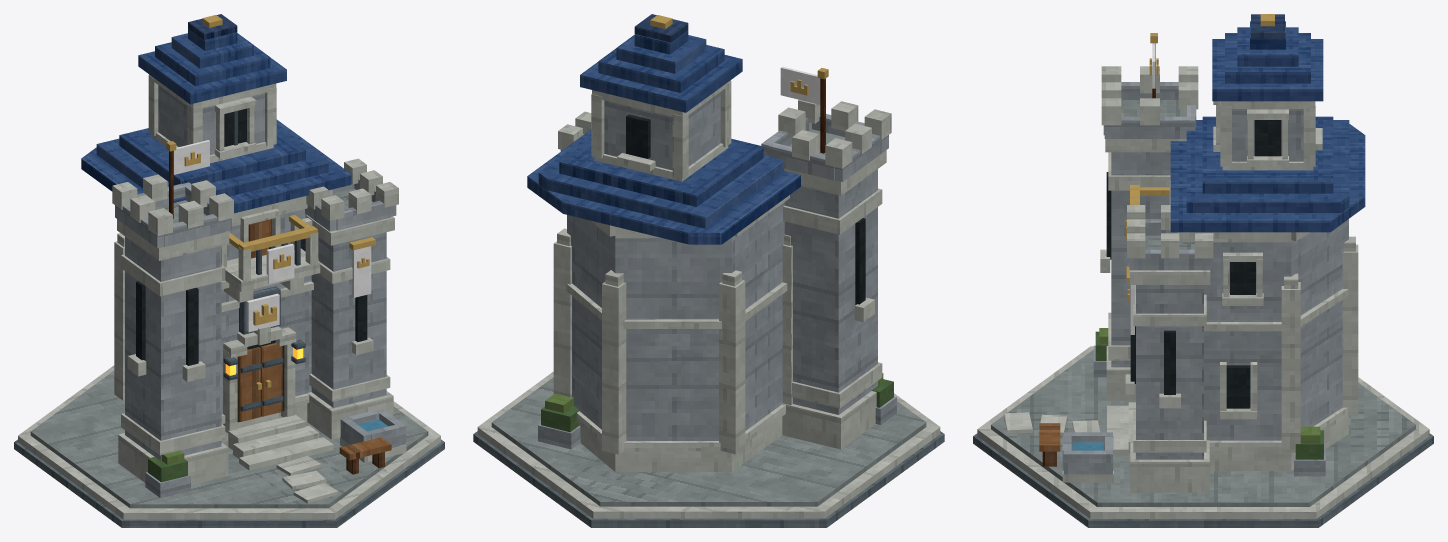
File: city_level_3_hex_v1.glb
3 renders of one model, left to right at view 1: azimuth 30°, elevation 25°; view 2: azimuth 150°, elevation 25°; view 3: azimuth 270°, elevation 25°, orthographic. The views are drawn at different scales.
Parts seen in each view (by area): view 1: City_Level_3_Hex_V1_Turret, City_Level_3_Hex_V1_Foundation, City_Level_3_Hex_V1_Architecture, City_Level_3_Hex_V1_Roofs, City_Level_3_Hex_V1_Keep, City_Level_3_Hex_V1_Courtyard, City_Level_3_Hex_V1_Details, City_Level_3_Hex_V1_Faction; view 2: City_Level_3_Hex_V1_Keep, City_Level_3_Hex_V1_Foundation, City_Level_3_Hex_V1_Turret, City_Level_3_Hex_V1_Roofs, City_Level_3_Hex_V1_Architecture, City_Level_3_Hex_V1_Details, City_Level_3_Hex_V1_Courtyard, City_Level_3_Hex_V1_Faction; view 3: City_Level_3_Hex_V1_Turret, City_Level_3_Hex_V1_Foundation, City_Level_3_Hex_V1_Keep, City_Level_3_Hex_V1_Roofs, City_Level_3_Hex_V1_Architecture, City_Level_3_Hex_V1_Courtyard, City_Level_3_Hex_V1_Details.
Part boxes in pixels (bbox=[...]): City_Level_3_Hex_V1_Turret: bbox=[112, 158, 398, 484]; City_Level_3_Hex_V1_Foundation: bbox=[14, 365, 444, 527]; City_Level_3_Hex_V1_Architecture: bbox=[114, 75, 373, 433]; City_Level_3_Hex_V1_Roofs: bbox=[81, 14, 351, 213]; City_Level_3_Hex_V1_Keep: bbox=[149, 74, 332, 442]; City_Level_3_Hex_V1_Courtyard: bbox=[145, 409, 406, 503]; City_Level_3_Hex_V1_Details: bbox=[148, 15, 391, 482]; City_Level_3_Hex_V1_Faction: bbox=[173, 140, 371, 332]; City_Level_3_Hex_V1_Keep: bbox=[566, 80, 789, 471]; City_Level_3_Hex_V1_Foundation: bbox=[473, 371, 944, 527]; City_Level_3_Hex_V1_Turret: bbox=[558, 100, 891, 449]; City_Level_3_Hex_V1_Roofs: bbox=[527, 14, 800, 244]; City_Level_3_Hex_V1_Architecture: bbox=[553, 81, 874, 454]; City_Level_3_Hex_V1_Details: bbox=[541, 15, 893, 432]; City_Level_3_Hex_V1_Courtyard: bbox=[538, 396, 896, 449]; City_Level_3_Hex_V1_Faction: bbox=[780, 66, 820, 104]; City_Level_3_Hex_V1_Turret: bbox=[1101, 66, 1213, 492]; City_Level_3_Hex_V1_Foundation: bbox=[973, 346, 1433, 527]; City_Level_3_Hex_V1_Keep: bbox=[1177, 101, 1348, 470]; City_Level_3_Hex_V1_Roofs: bbox=[1170, 14, 1365, 232]; City_Level_3_Hex_V1_Architecture: bbox=[1100, 101, 1358, 452]; City_Level_3_Hex_V1_Courtyard: bbox=[1004, 345, 1325, 482]; City_Level_3_Hex_V1_Details: bbox=[1039, 14, 1323, 466].
Bounding box in the file's own units: 1.45 × 1.74 × 1.68.
1 material, 1 textured.
